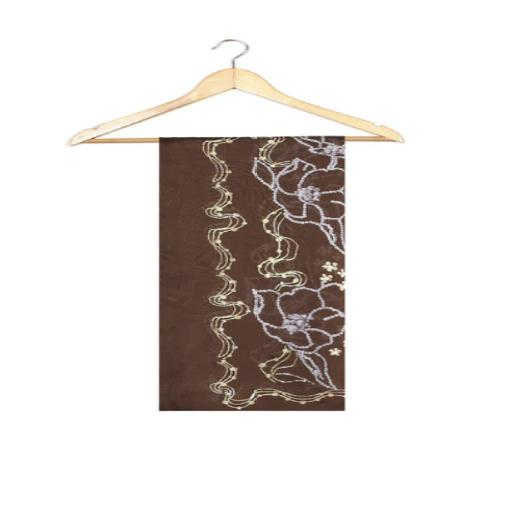dupatta: (139, 127, 365, 419)
